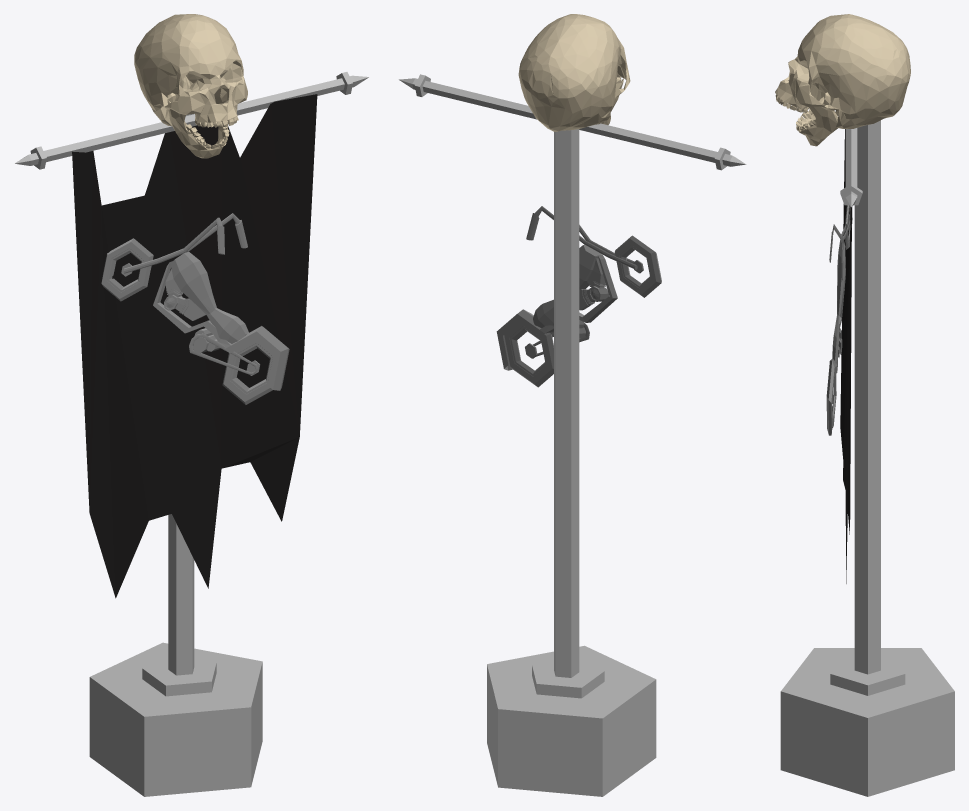
Rendered from SM_Estandarte.fbx.
The picture shows the model from 3 angles, left to right: view 1: azimuth 30°, elevation 25°; view 2: azimuth 150°, elevation 25°; view 3: azimuth 270°, elevation 25°; orthographic projection. The views are drawn at different scales.
Parts seen in each view (by area): view 1: Sabana, Cylinder, Calavera, Moto_1, Cylinder_1; view 2: Cylinder, Calavera, Moto_1, Cylinder_1; view 3: Cylinder, Calavera, Sabana, Moto_1, Cylinder_1.
Part boxes in pixels (bbox=[...]): Sabana: bbox=[72, 94, 317, 598]; Cylinder: bbox=[89, 114, 262, 796]; Calavera: bbox=[134, 14, 247, 158]; Moto_1: bbox=[101, 213, 289, 404]; Cylinder_1: bbox=[15, 72, 368, 169]; Cylinder: bbox=[487, 129, 656, 796]; Calavera: bbox=[518, 14, 630, 131]; Moto_1: bbox=[496, 206, 661, 387]; Cylinder_1: bbox=[399, 74, 746, 170]; Cylinder: bbox=[780, 120, 954, 796]; Calavera: bbox=[775, 14, 910, 146]; Sabana: bbox=[840, 129, 851, 583]; Moto_1: bbox=[826, 205, 852, 435]; Cylinder_1: bbox=[840, 128, 862, 207].
Size of the model in its own units: 35.37 by 71.46 by 15.74.
